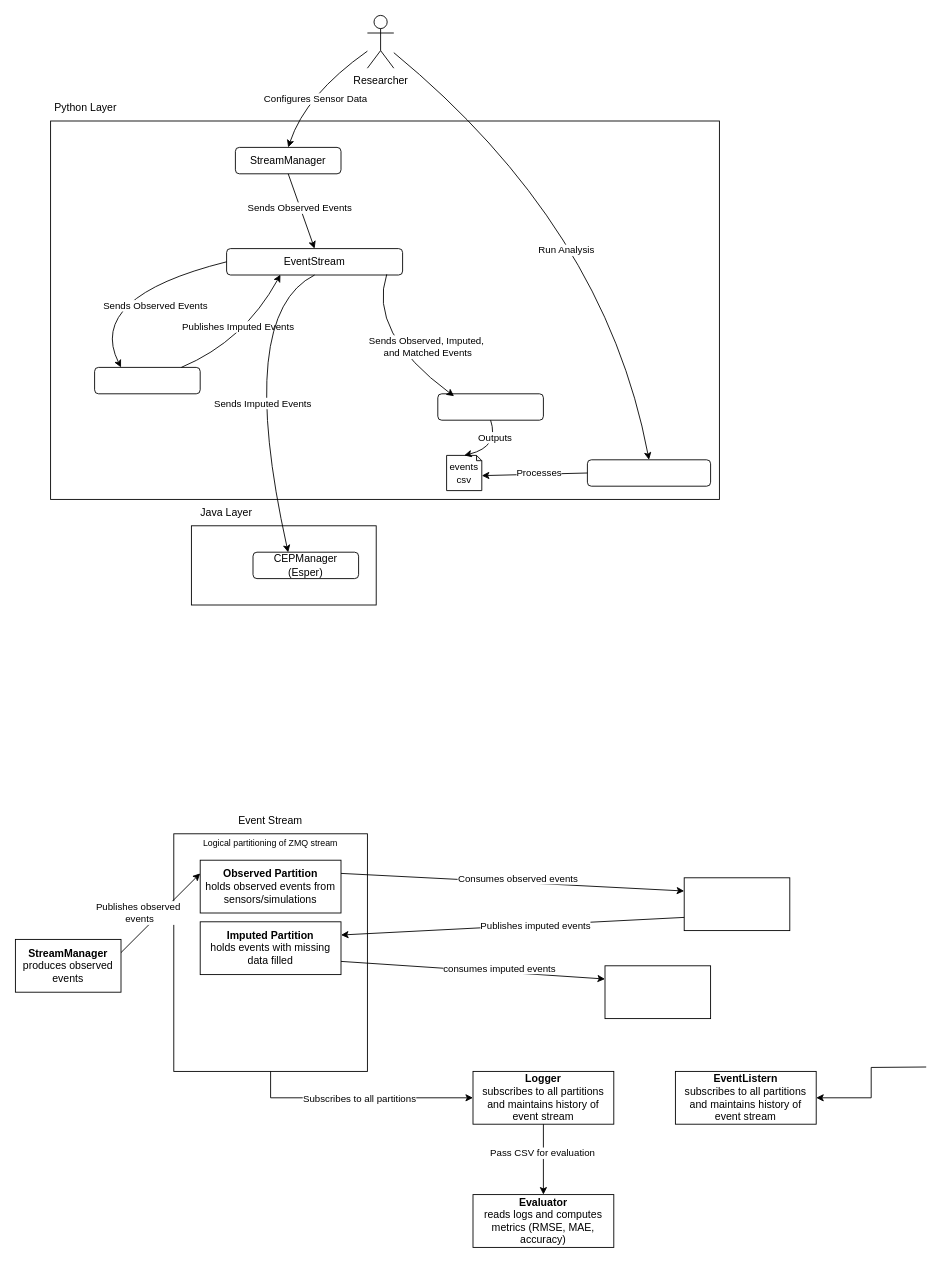
Image size: 949x1263. Some labels were removed from this diagram. The shapes that lost their labels are listed below. From the top down, each one's box as (x1, y1, x2, y2) in pixels, then its label:
(94, 367, 200, 394): ImputerManager (Kalman Filter..)
(437, 393, 543, 420): Logger
(587, 459, 711, 486): Evaluator
(683, 877, 790, 931): ImputerManager consumes observed events and publishes imputed events
(604, 965, 711, 1019): CEPManager consumes imputed events and publishes pattern matches
